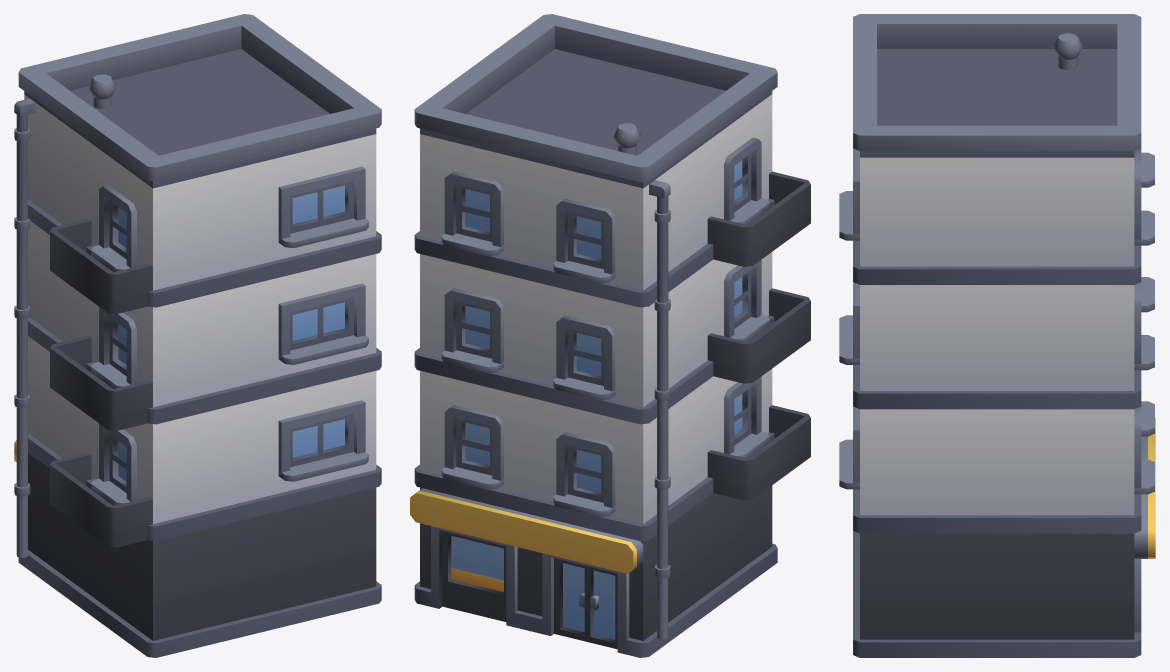
Rendered from k-city-kit-commercial-building-g.glb.
The picture shows the model from 3 angles, left to right: view 1: azimuth 30°, elevation 25°; view 2: azimuth 150°, elevation 25°; view 3: azimuth 270°, elevation 25°; orthographic projection. The views are drawn at different scales.
Parts seen in each view (by area): view 1: building-g; view 2: building-g; view 3: building-g.
Part boxes in pixels (<box>): building-g: <box>14,14,381,657</box>; building-g: <box>410,14,810,657</box>; building-g: <box>839,14,1155,657</box>.
Bounding box in the file's own units: 0.97 × 1.69 × 0.9221.
1 material, 1 textured.
